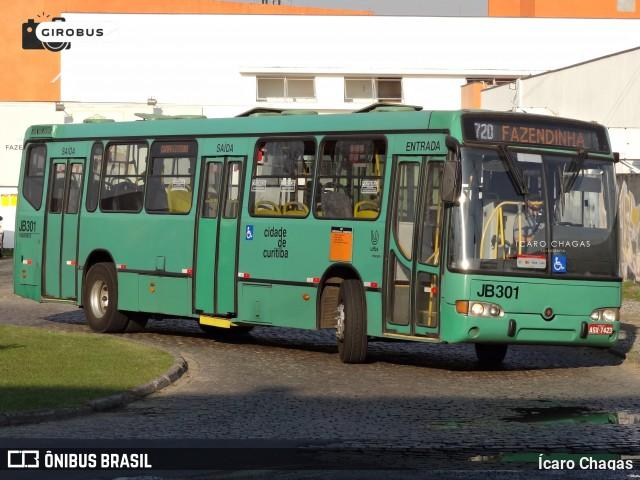FAZENDINHA: (497, 120, 593, 152)
